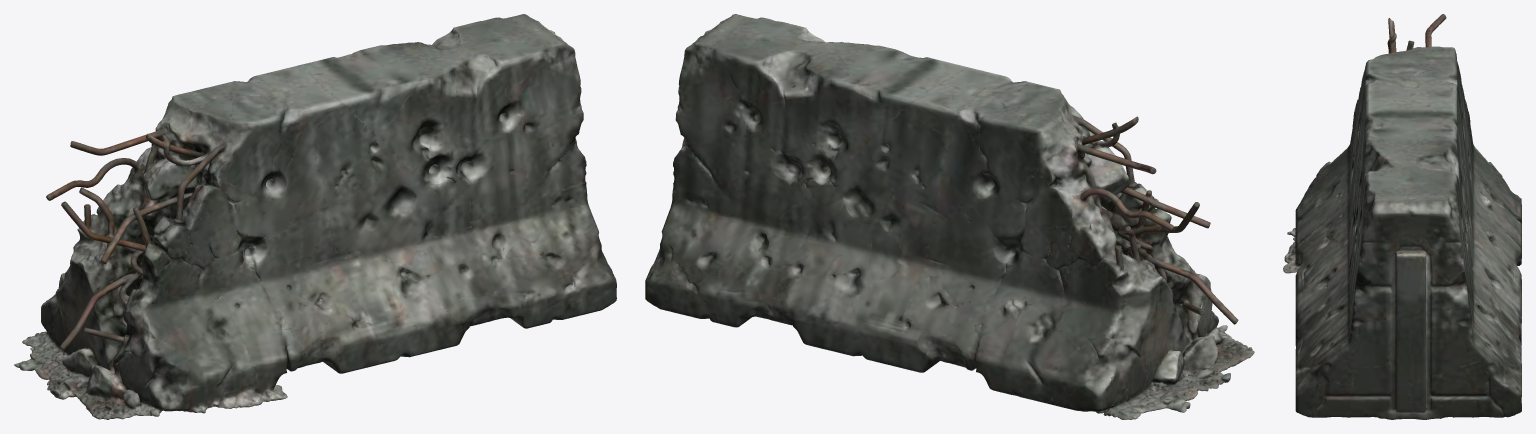
File: barricade2.glb
3 renders of one model, left to right at view 1: azimuth 30°, elevation 25°; view 2: azimuth 150°, elevation 25°; view 3: azimuth 270°, elevation 25°, orthographic. The views are drawn at different scales.
Bounding box in the file's own units: 1.9 × 0.8494 × 0.8331.
Materials: 1 (1 with a texture image).
